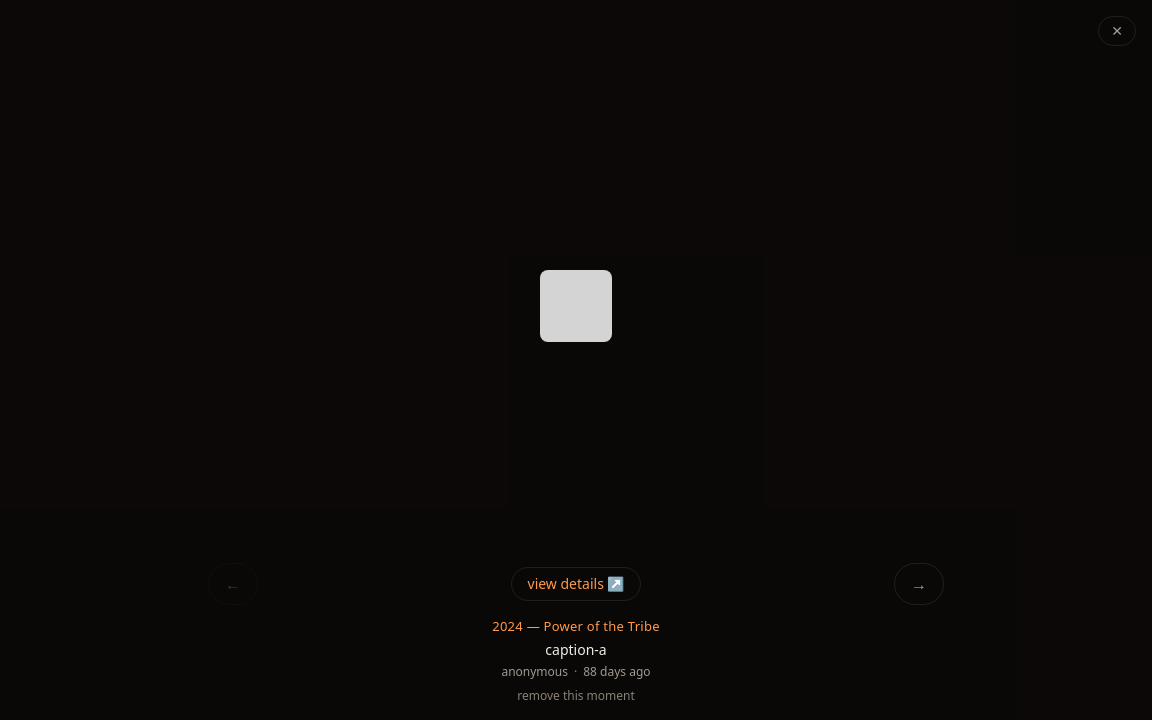
Test: Lightbox remove control › backing out keeps the moment and returns to the quiet link
The width and height of the screenshot is (1152, 720).
Click the button "remove this moment" at (576,696), box left=517, top=688, right=635, bottom=704
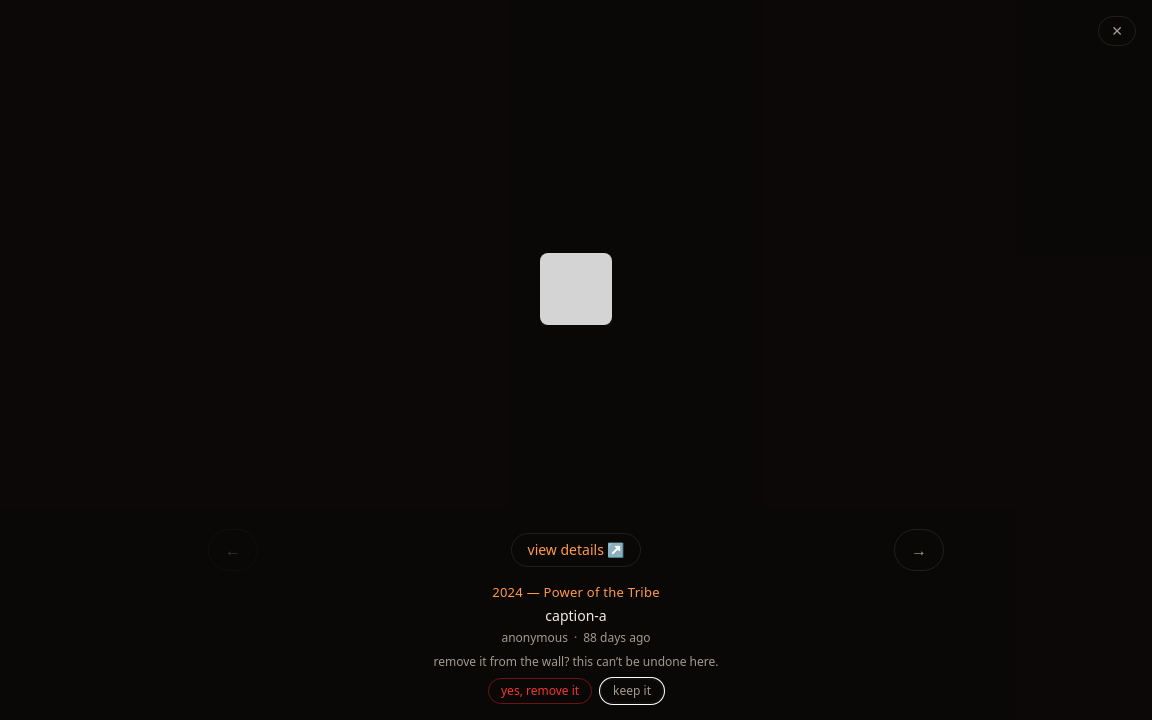
Click the button "keep it" at (632,691), box left=600, top=678, right=664, bottom=704
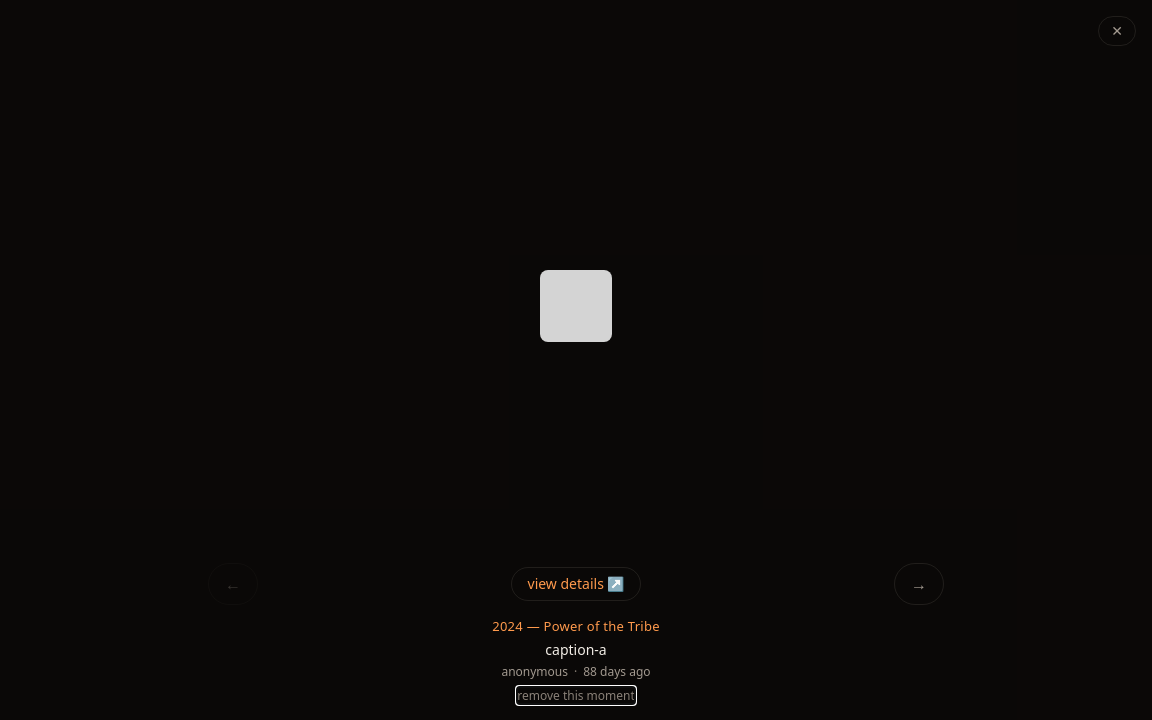
Now the button "yes, remove it" is gone
Now the button "remove this moment" is shown, box left=517, top=688, right=635, bottom=704
